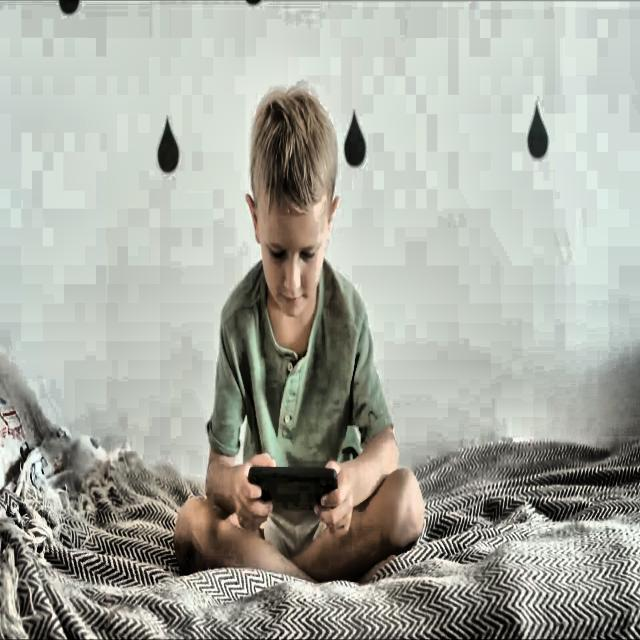Phone: (245, 464, 342, 518)
